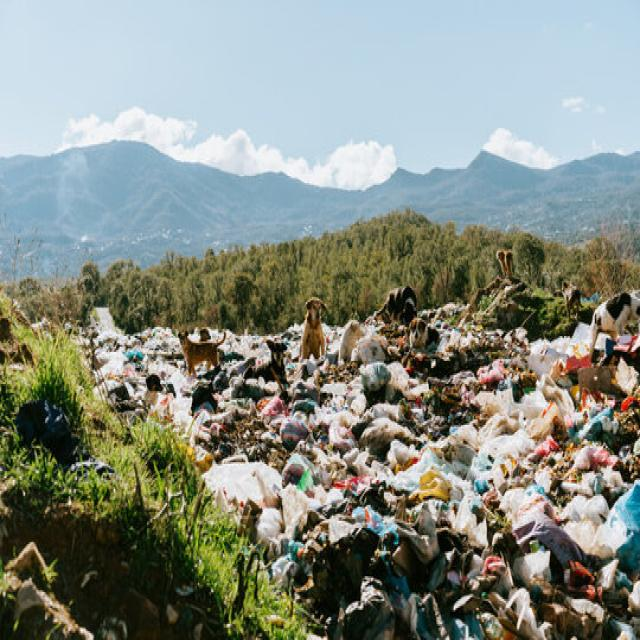trash: (224, 368, 606, 528), (336, 538, 616, 636)
